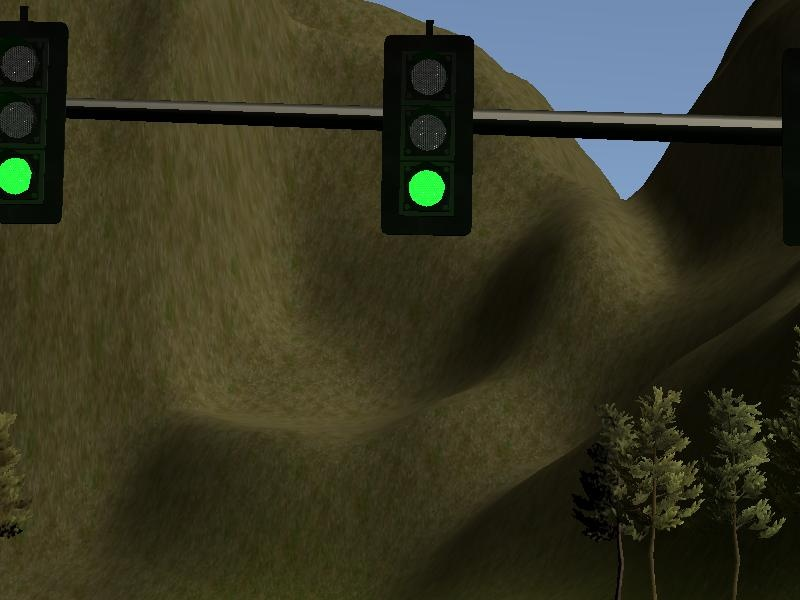GREEN: (381, 33, 471, 234), (1, 20, 68, 224)
